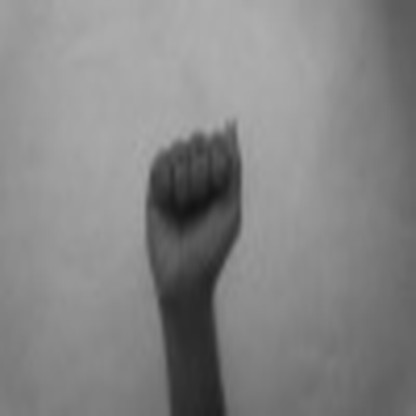a: (139, 110, 248, 293)
